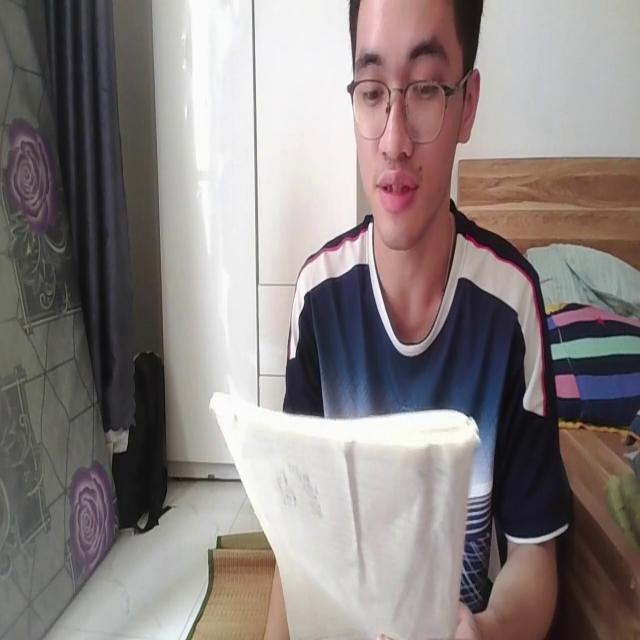book: (210, 381, 479, 640)
student: (266, 2, 562, 640)
